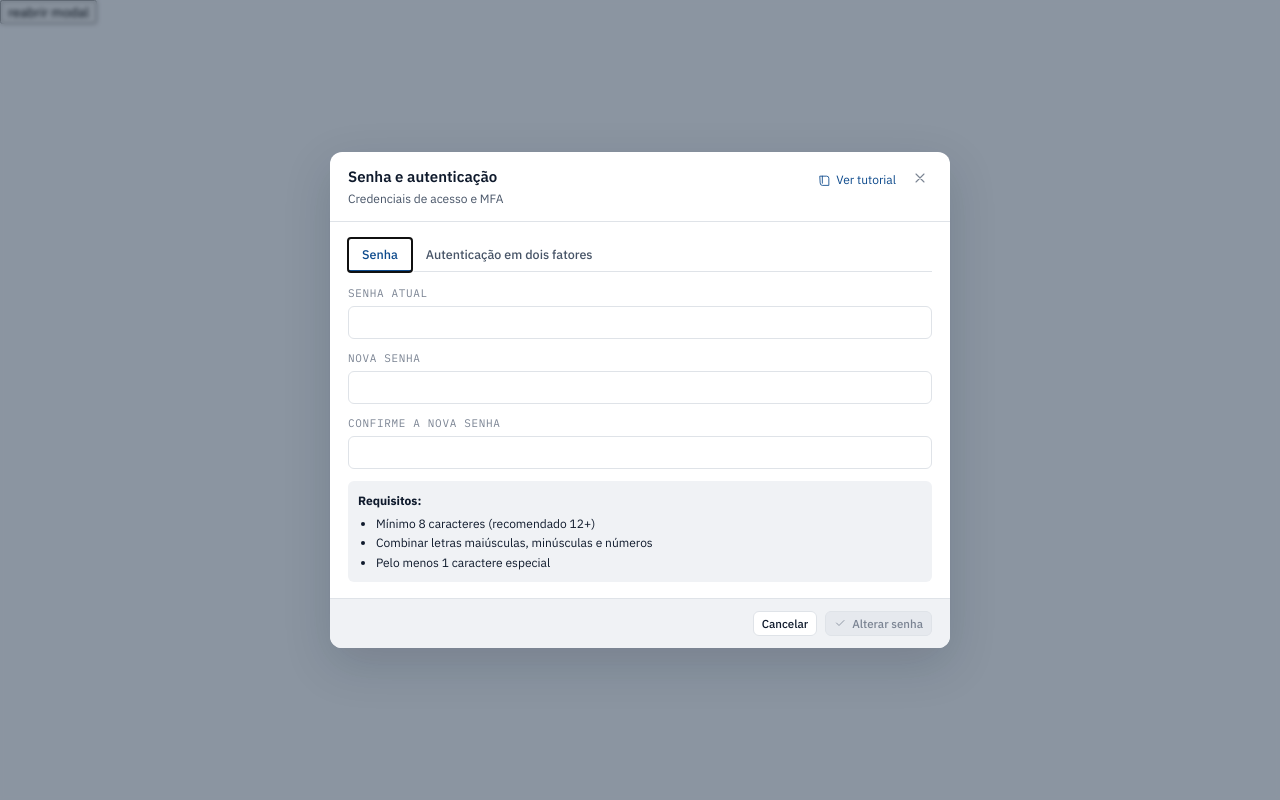
Test: FormSenha2FA — códigos de recuperação › desativar reflete no estado da aba sem reload
Click the button "Autenticação em dois fatores". click: (509, 255)
box: x1=412 y1=238 x2=606 y2=272
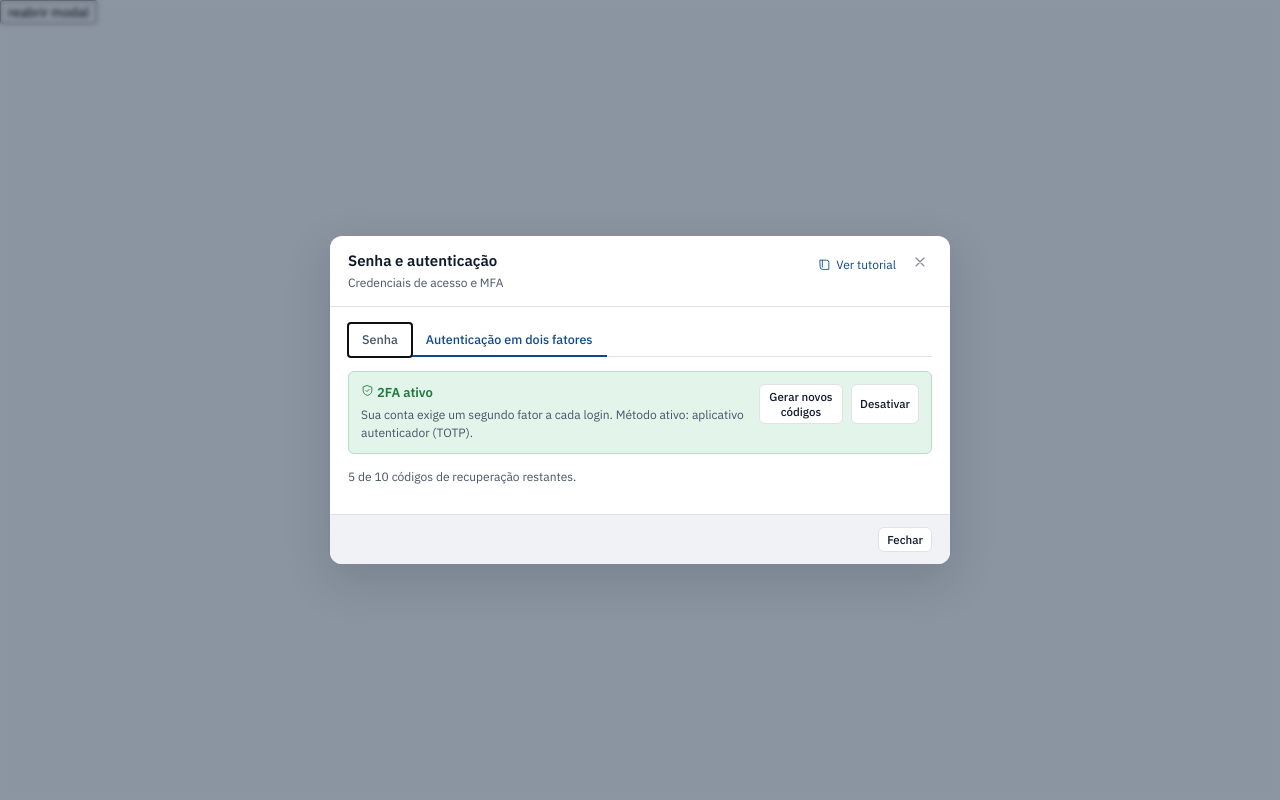
Result: the text "2FA ativo" is shown at x1=361 y1=384 x2=433 y2=401
Click the button "Desativar". click: (885, 404)
box: x1=851 y1=384 x2=919 y2=424
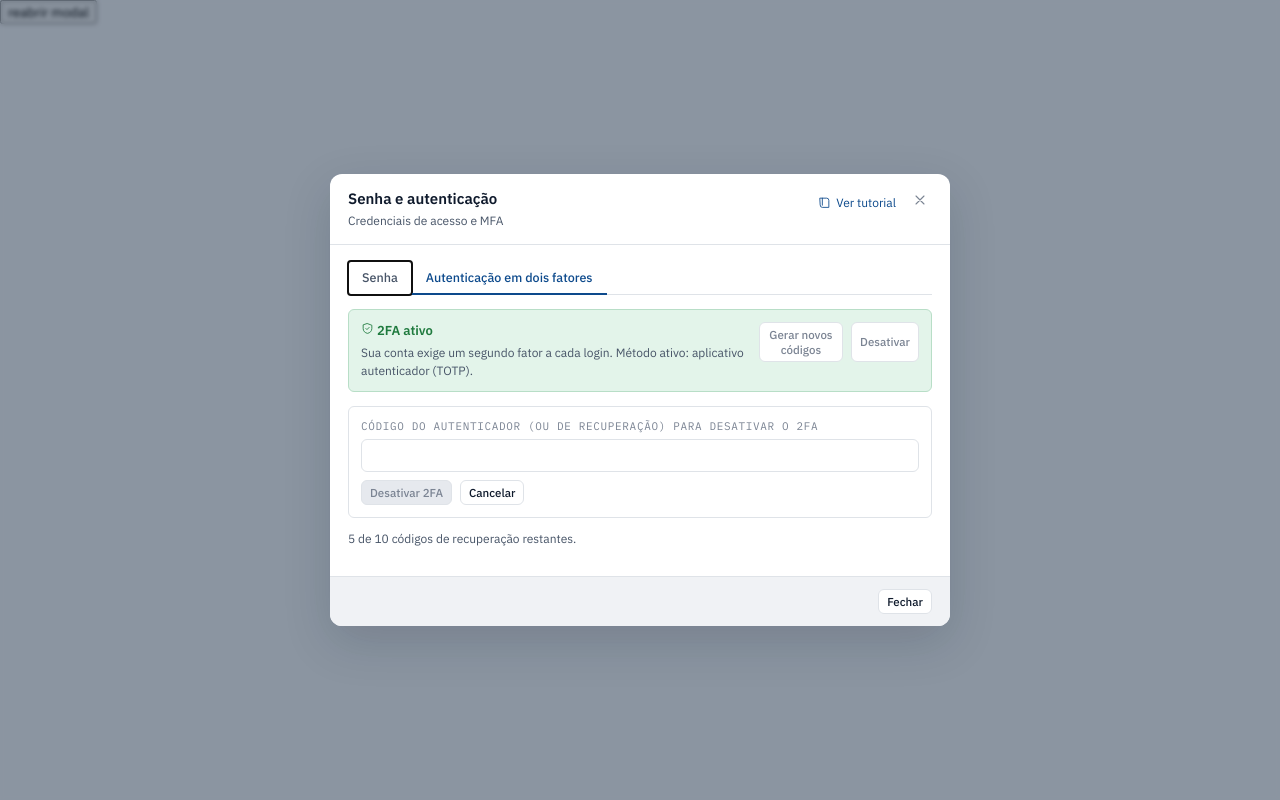
Type "cod-1" into the field labelled "para desativar o 2FA". click: (640, 456)
box: x1=361 y1=439 x2=919 y2=472
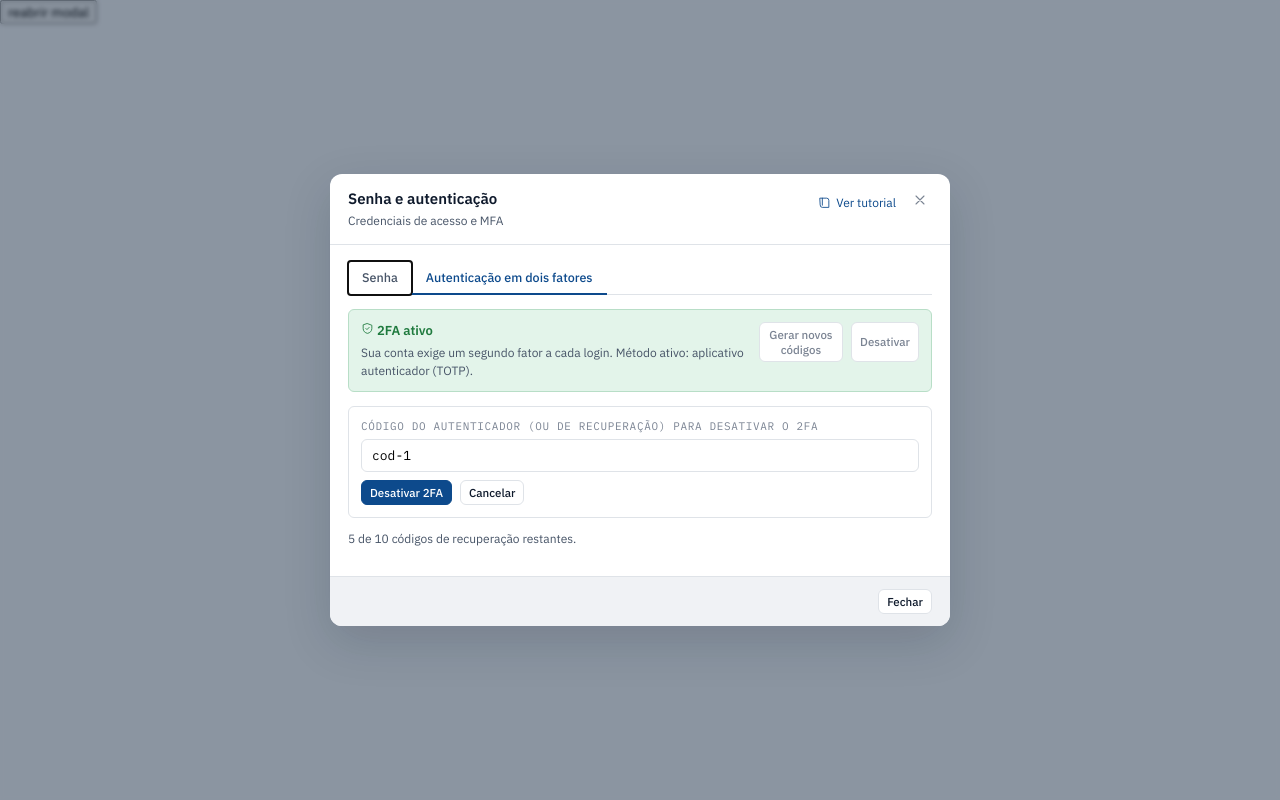
Click the button "Desativar 2FA". click: (406, 493)
box: x1=361 y1=480 x2=452 y2=505
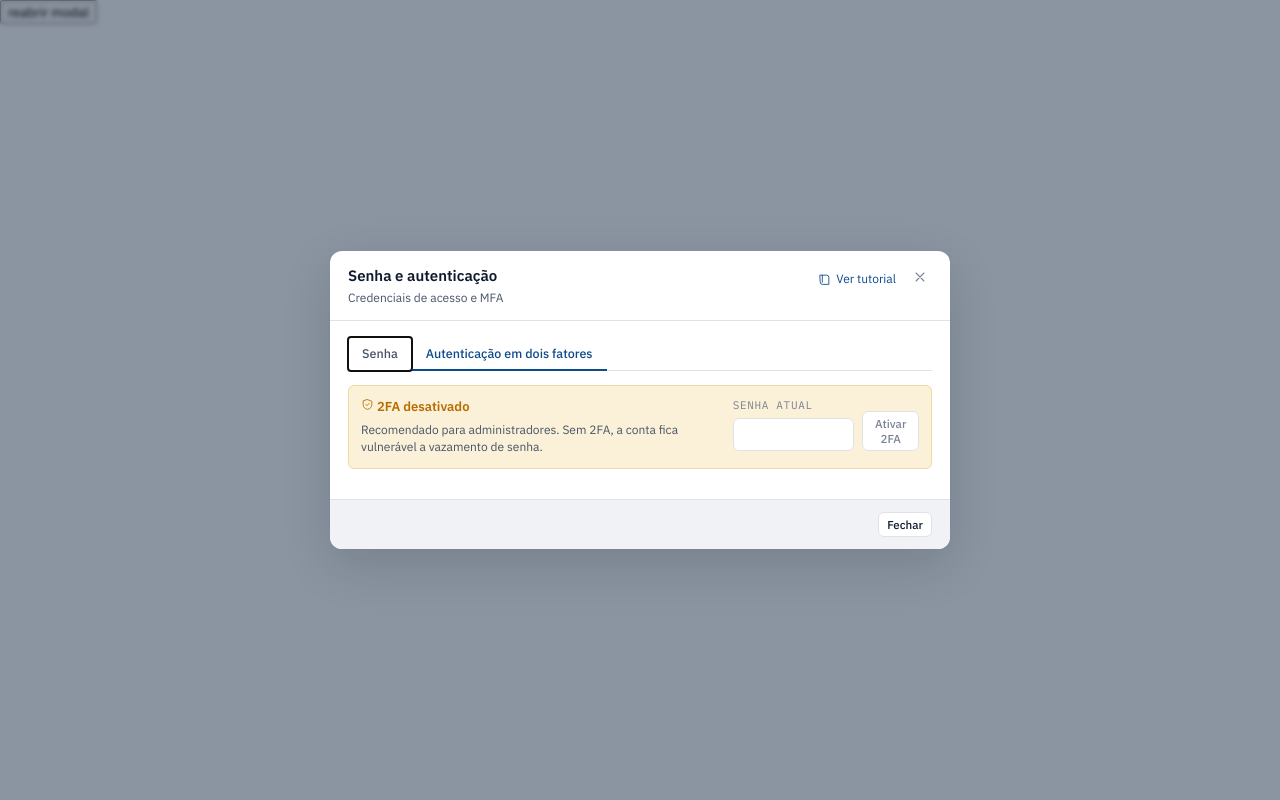
Result: the text "2FA desativado" is shown at x1=361 y1=398 x2=470 y2=415
Result: the button "Ativar 2FA" is shown at x1=862 y1=411 x2=919 y2=451
Result: the text "códigos de recuperação restantes" is gone
